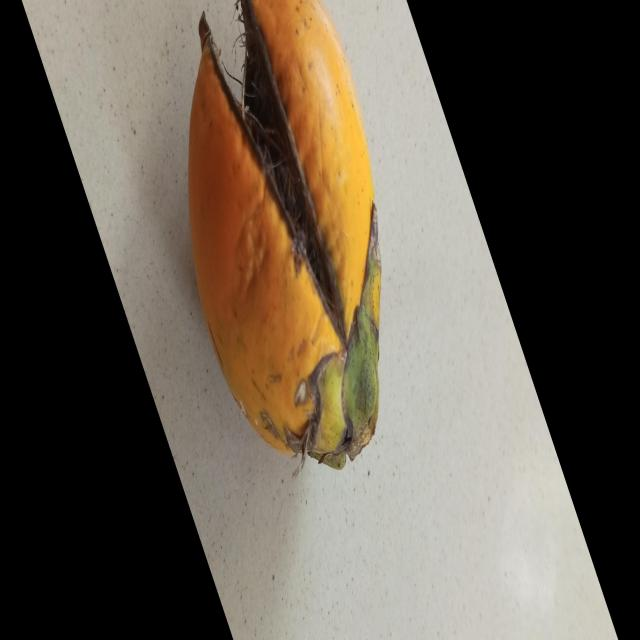damaged: (189, 0, 381, 473)
